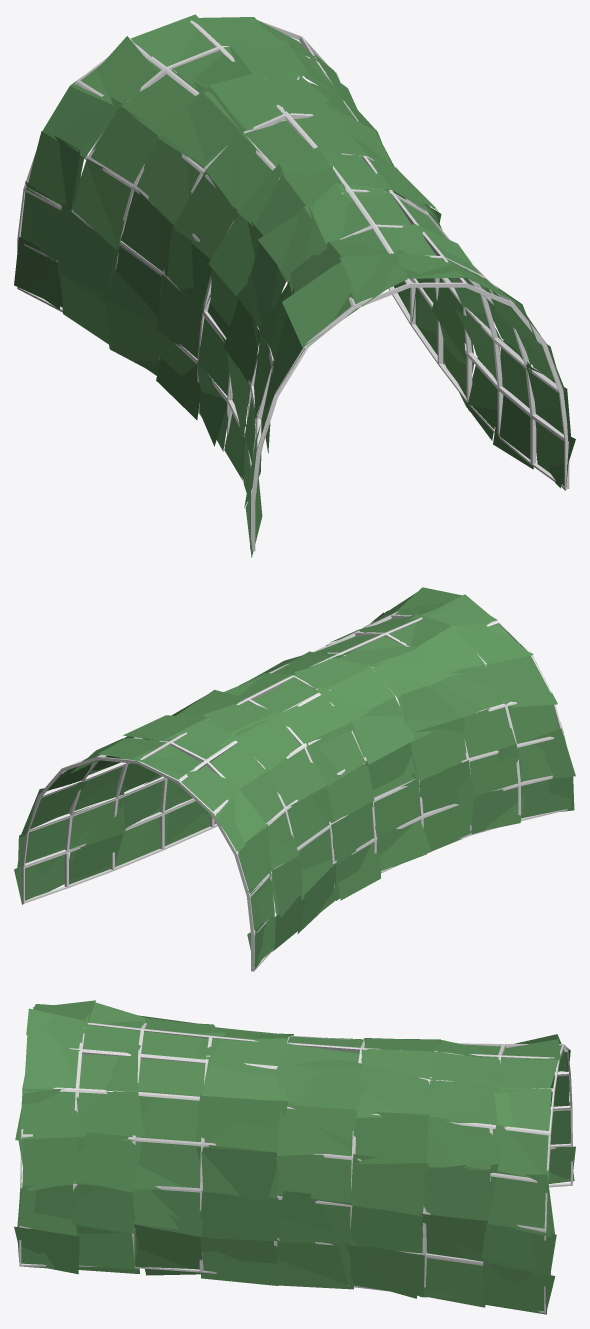
File: arc.fbx
The picture shows the model from 3 angles, top to bottom: view 1: azimuth 30°, elevation 25°; view 2: azimuth 150°, elevation 25°; view 3: azimuth 270°, elevation 25°; orthographic projection. The views are drawn at different scales.
Parts seen in each view (by area): view 1: leaf, arc_way; view 2: leaf, arc_way; view 3: leaf, arc_way.
Part boxes in pixels (x1,y1,x2,y2): leaf: [14, 14, 575, 557]; arc_way: [17, 20, 569, 551]; leaf: [14, 587, 575, 969]; arc_way: [21, 611, 567, 971]; leaf: [14, 1000, 575, 1314]; arc_way: [19, 1023, 572, 1313].
Bounding box in the file's own units: 9272 × 5239 × 12871.
